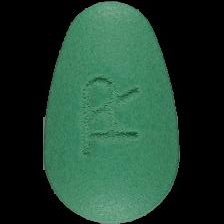55154-5159: (0, 0, 224, 224)
